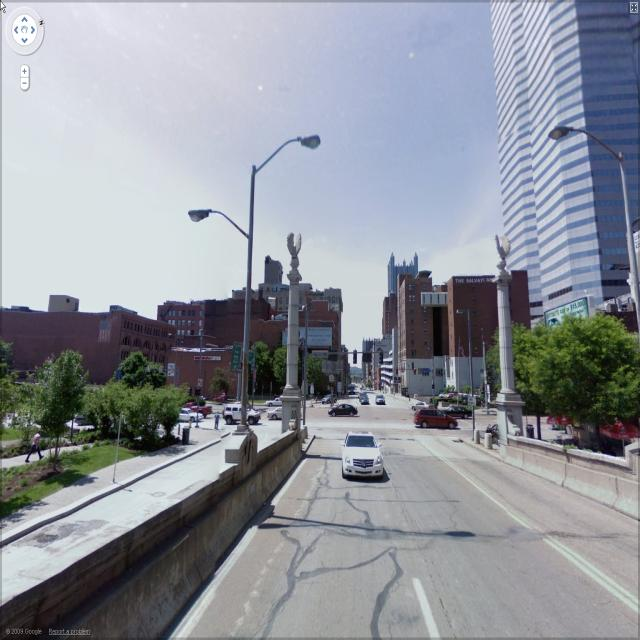b_1: (498, 7, 640, 324), (401, 269, 539, 400), (2, 298, 178, 390), (168, 340, 261, 400), (298, 289, 347, 392), (359, 330, 391, 389), (386, 283, 398, 402)
